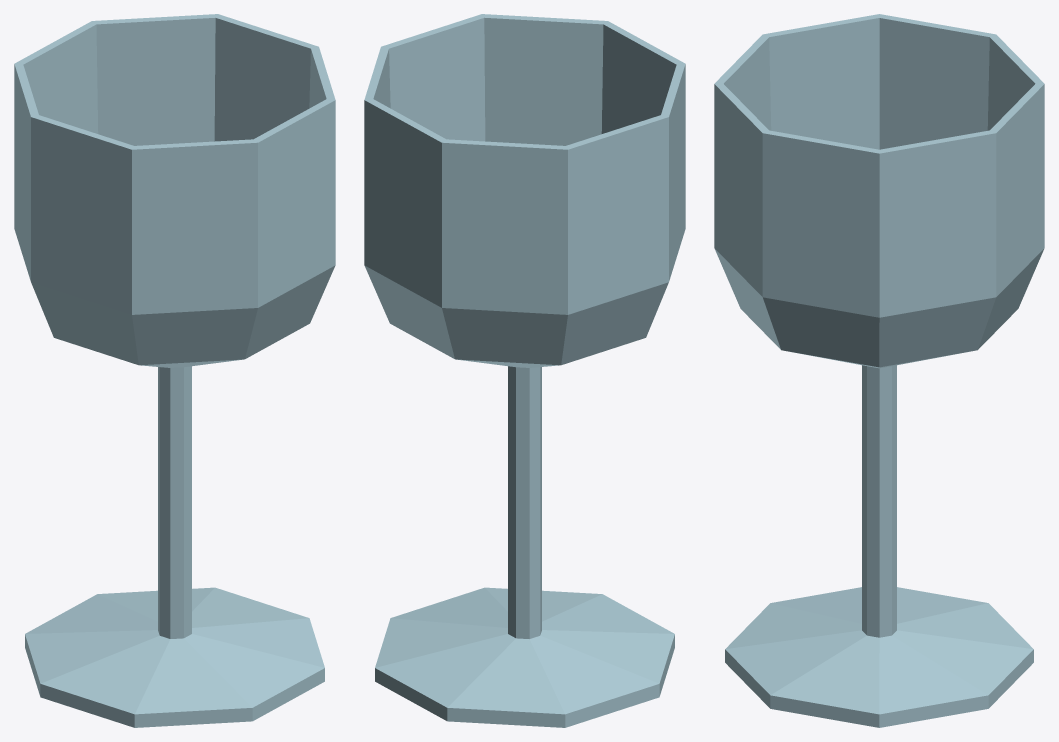
The model's file is Wineglass_1.fbx.
The picture shows the model from 3 angles, left to right: view 1: azimuth 30°, elevation 25°; view 2: azimuth 150°, elevation 25°; view 3: azimuth 270°, elevation 25°; orthographic projection.
Visible parts, largest first — view 1: Wineglass_1; view 2: Wineglass_1; view 3: Wineglass_1.
Part boxes in pixels (x1,y1,x2,y2): Wineglass_1: (14,14,335,727); Wineglass_1: (364,14,685,727); Wineglass_1: (714,14,1044,727).
Size of the model in its own units: 12.48 by 12.48 by 24.13.
